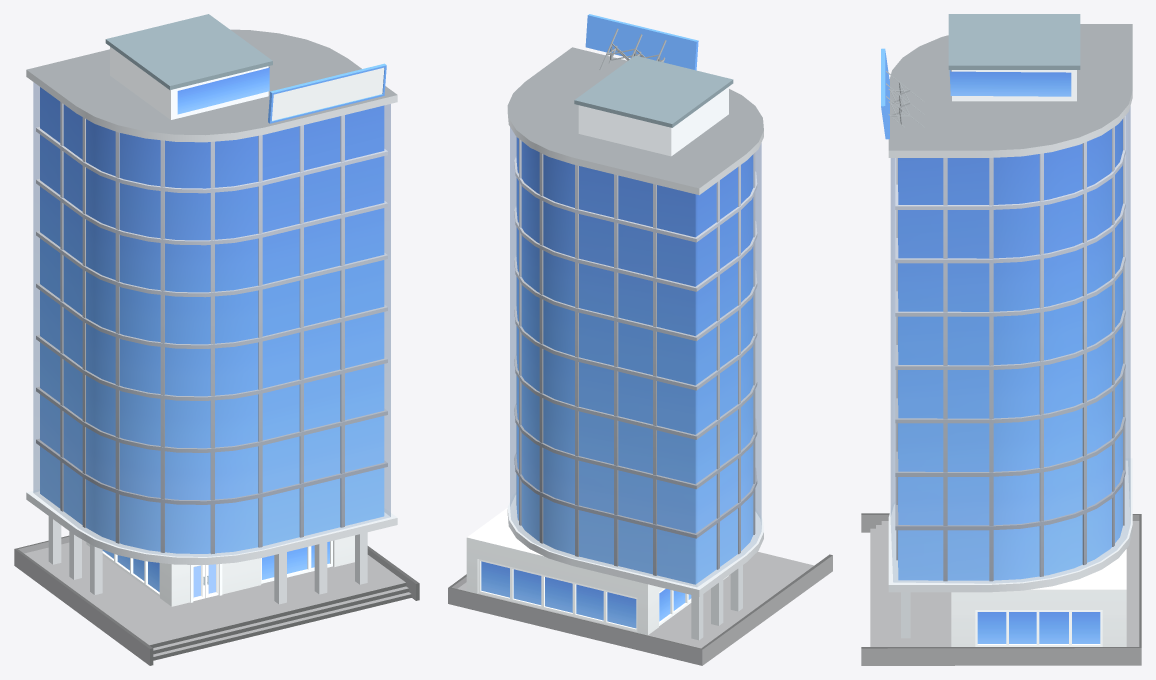
Rendered from city2-building-business-09.glb.
3 renders of one model, left to right at view 1: azimuth 30°, elevation 25°; view 2: azimuth 150°, elevation 25°; view 3: azimuth 270°, elevation 25°, orthographic. The views are drawn at different scales.
Parts seen in each view (by area): view 1: Building_Business_09; view 2: Building_Business_09; view 3: Building_Business_09.
Boxes of the visible parts, box(x1,y1,x2,y2) form: Building_Business_09: box(14, 14, 419, 665); Building_Business_09: box(448, 14, 832, 665); Building_Business_09: box(861, 14, 1141, 665).
Bounding box in the file's own units: 17.05 × 32.26 × 14.94.
Materials: 2 (2 with a texture image).
